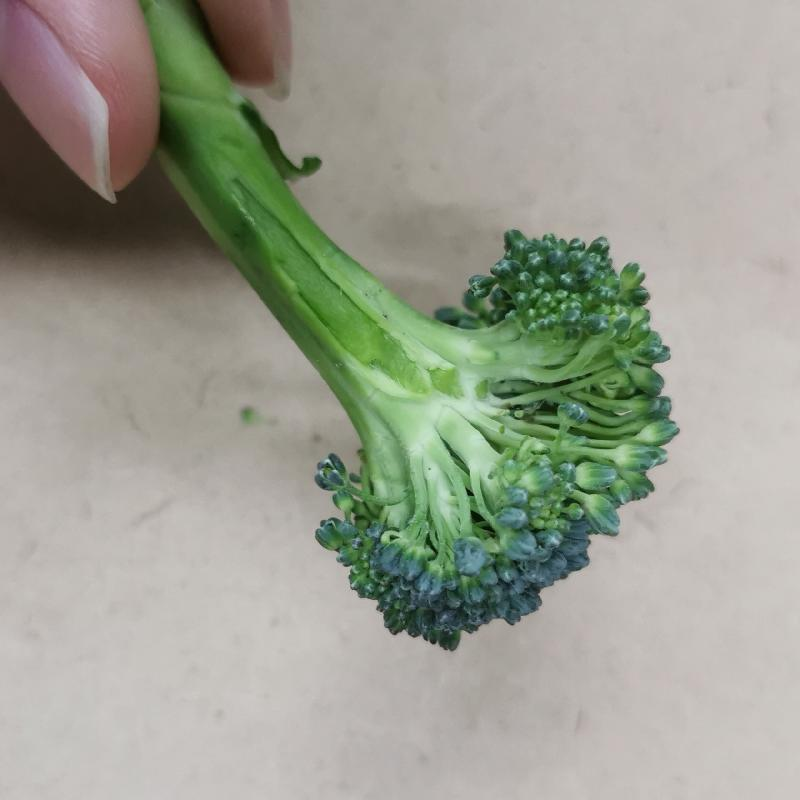broccoli: (125, 6, 674, 644)
